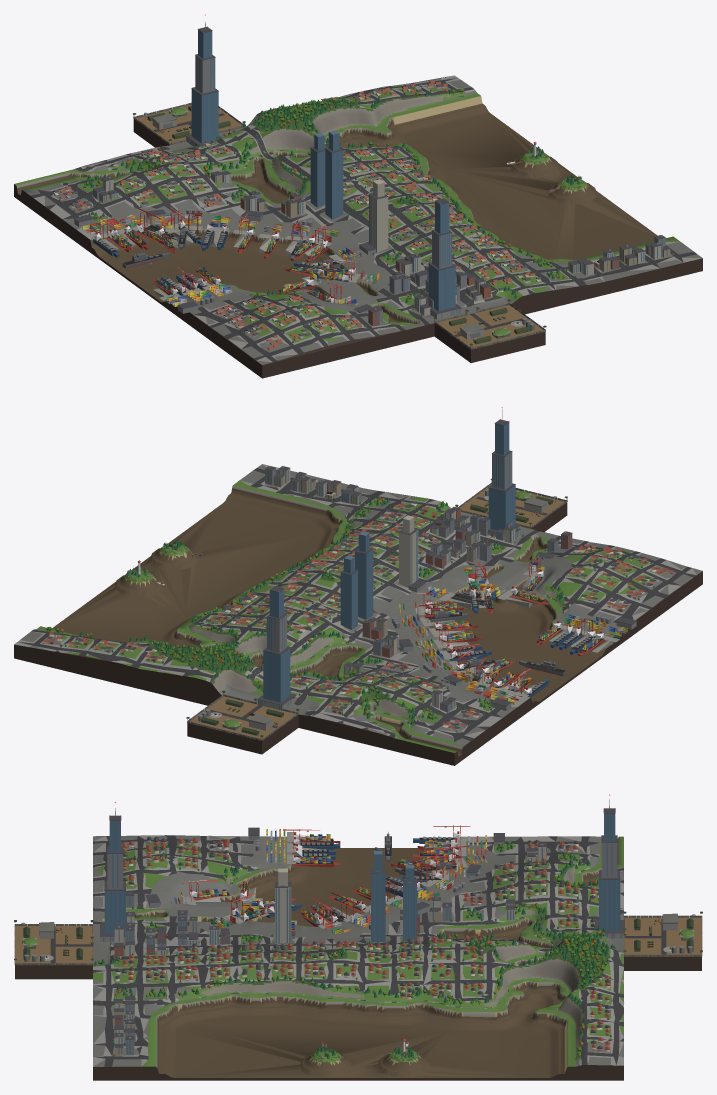
File: map_port.glb
The picture shows the model from 3 angles, top to bottom: view 1: azimuth 30°, elevation 25°; view 2: azimuth 150°, elevation 25°; view 3: azimuth 270°, elevation 25°; orthographic projection. The views are drawn at different scales.
Parts seen in each view (by area): view 1: Tile; view 2: Tile; view 3: Tile.
Part boxes in pixels (x1,y1,x2,y2): Tile: [14, 14, 702, 378]; Tile: [14, 407, 702, 765]; Tile: [14, 794, 702, 1080].
Size of the model in its own units: 839 by 254 by 1043.
